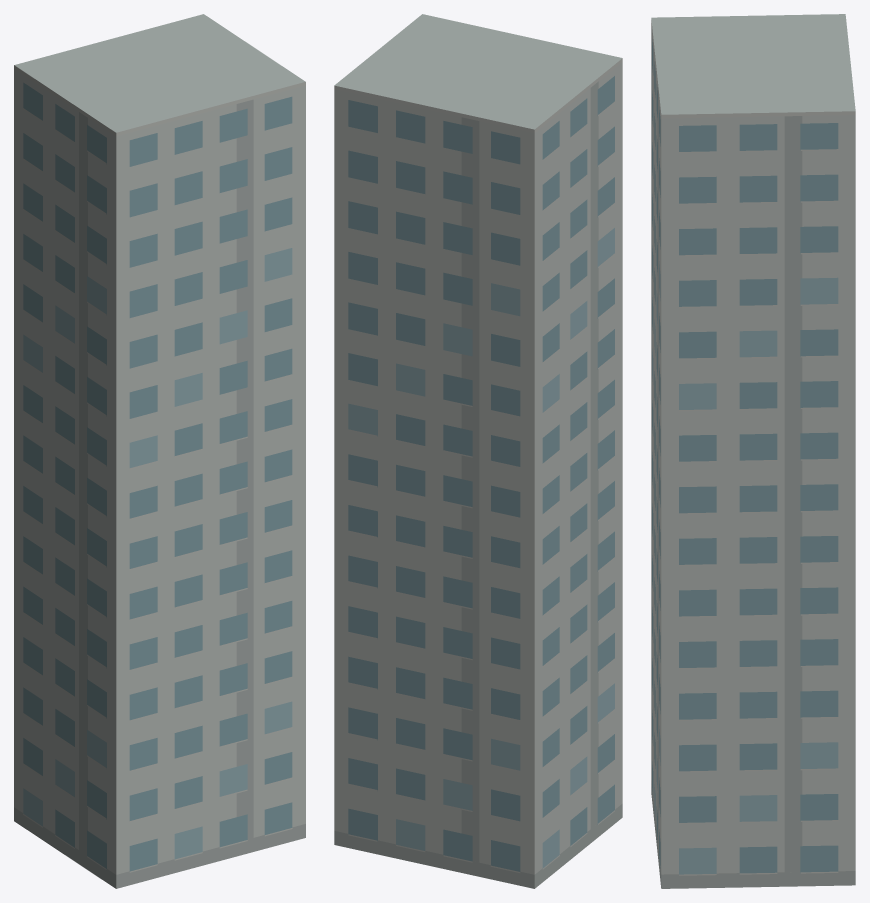
The model's file is residential-066638f9-f05d-4325-813f-2e23ed1f3567.glb.
3 renders of one model, left to right at view 1: azimuth 30°, elevation 25°; view 2: azimuth 150°, elevation 25°; view 3: azimuth 270°, elevation 25°, orthographic. The views are drawn at different scales.
Parts seen in each view (by area): view 1: residential-066638f9-f05d-4325-813f-2e23ed1f3567.tmp; view 2: residential-066638f9-f05d-4325-813f-2e23ed1f3567.tmp; view 3: residential-066638f9-f05d-4325-813f-2e23ed1f3567.tmp.
Part boxes in pixels (bbox=[...]): residential-066638f9-f05d-4325-813f-2e23ed1f3567.tmp: bbox=[14, 14, 305, 888]; residential-066638f9-f05d-4325-813f-2e23ed1f3567.tmp: bbox=[334, 14, 622, 888]; residential-066638f9-f05d-4325-813f-2e23ed1f3567.tmp: bbox=[651, 14, 855, 888].
Size of the model in its own units: 13.97 by 50 by 11.98.
